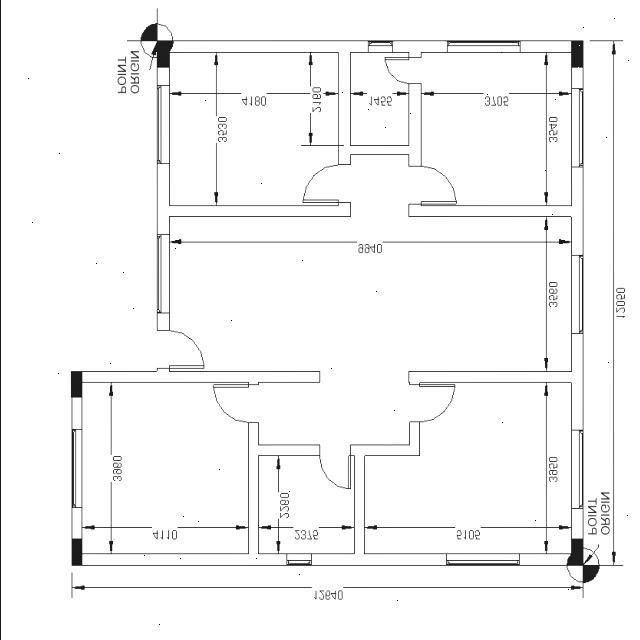Column: (156, 41, 169, 68), (570, 539, 582, 566), (570, 41, 582, 68), (70, 371, 82, 397), (71, 538, 81, 566)
Door: (300, 165, 350, 202), (408, 167, 456, 204), (212, 385, 258, 423), (156, 331, 203, 368), (408, 385, 454, 422), (319, 445, 349, 489), (384, 57, 420, 84)
Window: (570, 256, 582, 334), (570, 89, 582, 167), (156, 85, 168, 163), (156, 235, 168, 313), (570, 431, 582, 508), (446, 554, 518, 566), (446, 41, 520, 52), (70, 429, 80, 508), (286, 554, 310, 566), (367, 41, 392, 52)
